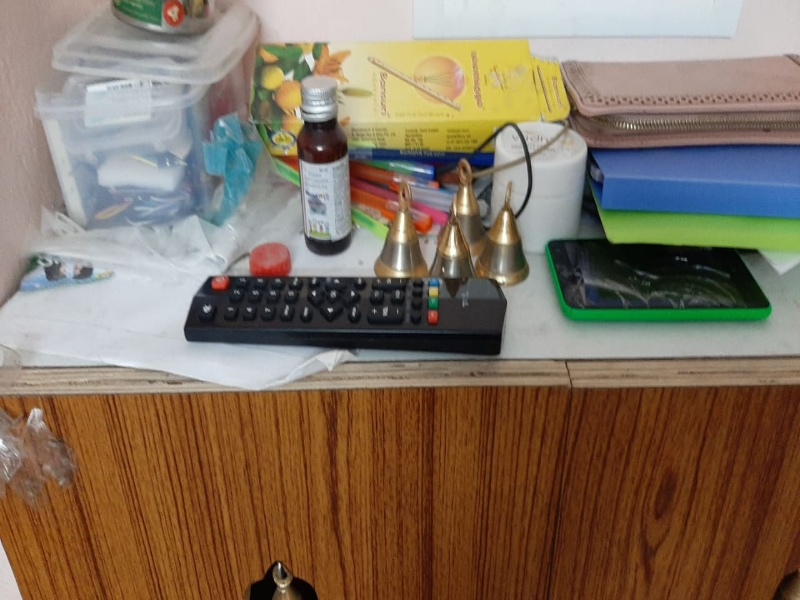remote: (186, 263, 519, 362)
